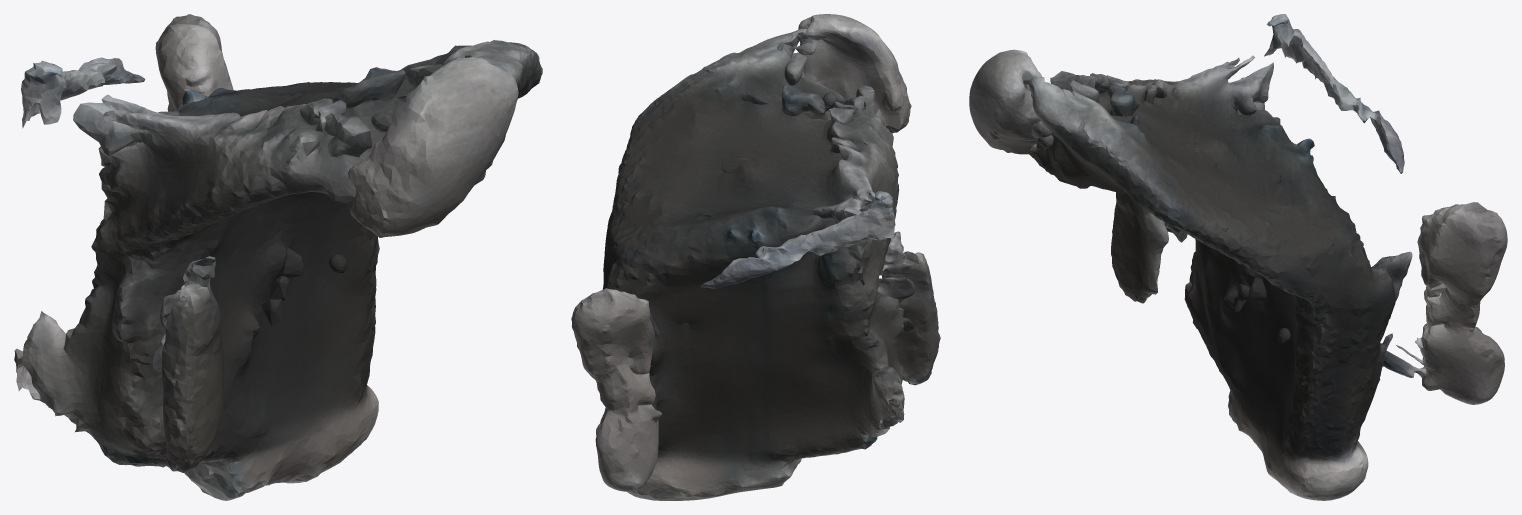
File: IMG_SEG_13.glb
3 views of the same model, side by side, from view 1: azimuth 30°, elevation 25°; view 2: azimuth 150°, elevation 25°; view 3: azimuth 270°, elevation 25° (orthographic). The views are drawn at different scales.
Bounding box in the file's own units: 1.19 × 1.38 × 1.59.
Materials: 1 (1 with a texture image).
